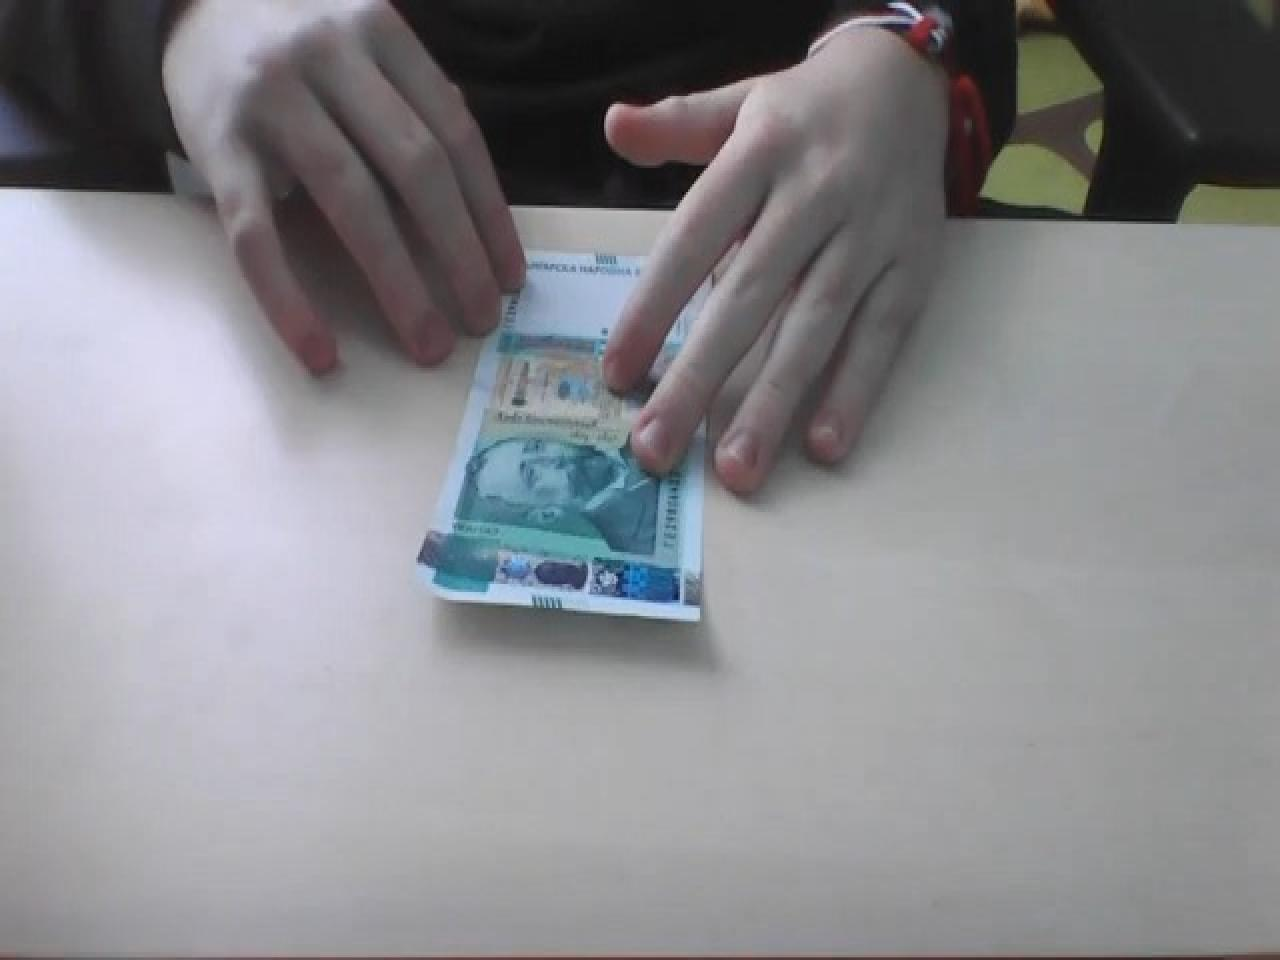100leva: (414, 251, 710, 624)
